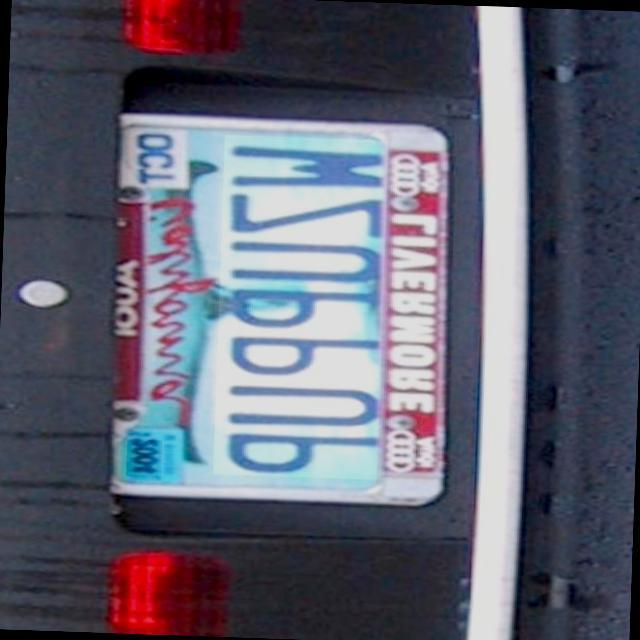Plat: (114, 108, 452, 508)
